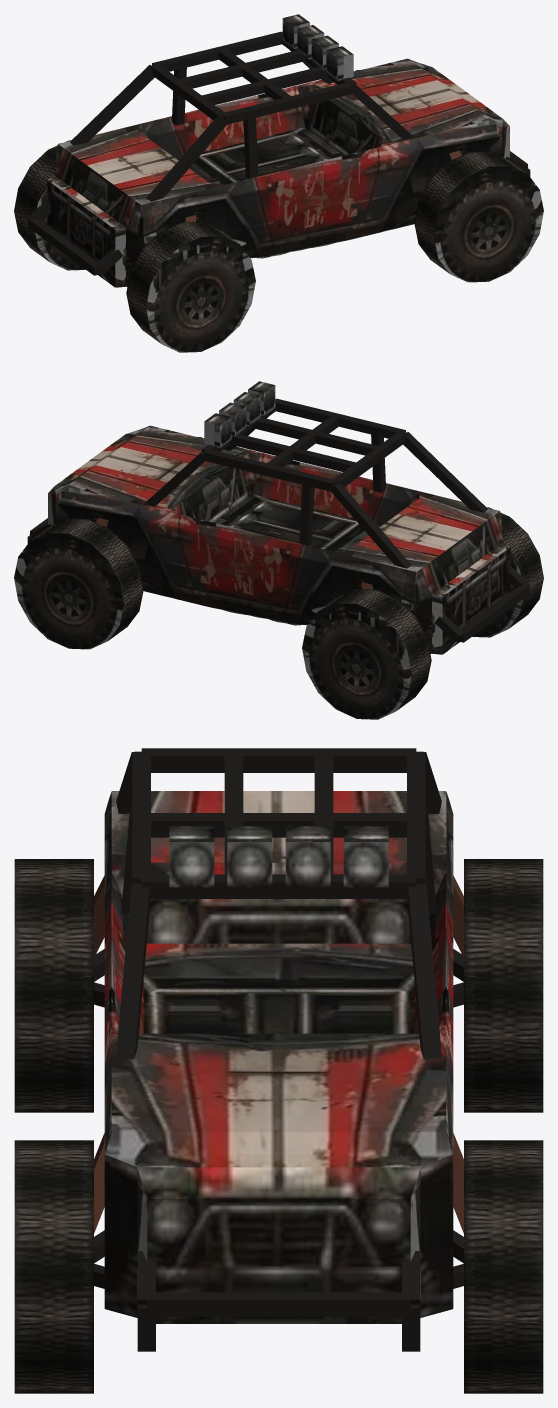
File: outlaw.glb
The picture shows the model from 3 angles, top to bottom: view 1: azimuth 30°, elevation 25°; view 2: azimuth 150°, elevation 25°; view 3: azimuth 270°, elevation 25°; orthographic projection. The views are drawn at different scales.
Visible parts, largest first — view 1: outlaw; view 2: outlaw; view 3: outlaw.
Boxes of the visible parts, x1,y1,x2,y2 form: outlaw: [14, 14, 543, 352]; outlaw: [14, 381, 543, 719]; outlaw: [14, 748, 543, 1393].
Bounding box in the file's own units: 3.79 × 1.86 × 2.
Materials: 1 (1 with a texture image).
